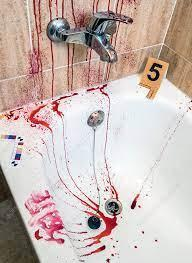Fire: (1, 0, 125, 262)
